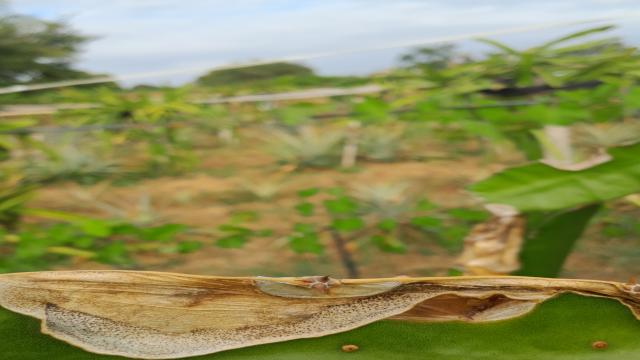stemcanker: (587, 338, 612, 353), (338, 340, 363, 355)
